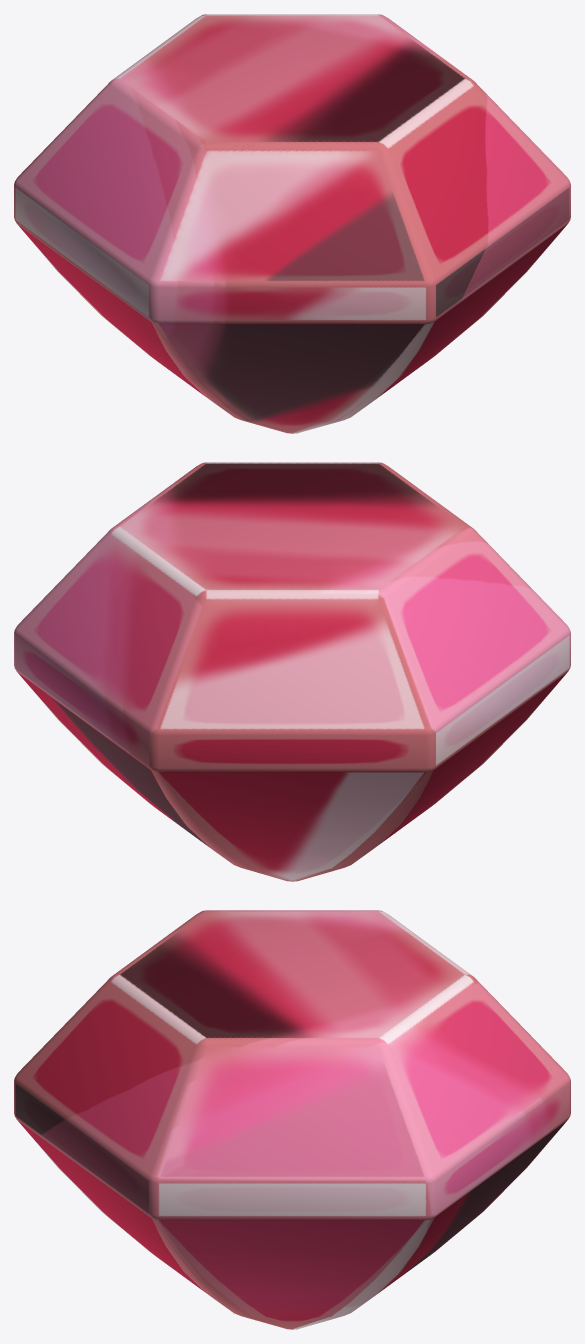
The model's file is icon_gem.fbx.
3 views of the same model, one above another, from view 1: azimuth 30°, elevation 25°; view 2: azimuth 150°, elevation 25°; view 3: azimuth 270°, elevation 25° (orthographic).
Visible parts, largest first — view 1: Icon_Gem; view 2: Icon_Gem; view 3: Icon_Gem.
Boxes of the visible parts, left/top/right/bottom form: Icon_Gem: left=14, top=14, right=570, bottom=433; Icon_Gem: left=14, top=462, right=570, bottom=881; Icon_Gem: left=14, top=910, right=570, bottom=1329.
Size of the model in its own units: 90.83 by 104 by 73.16.
